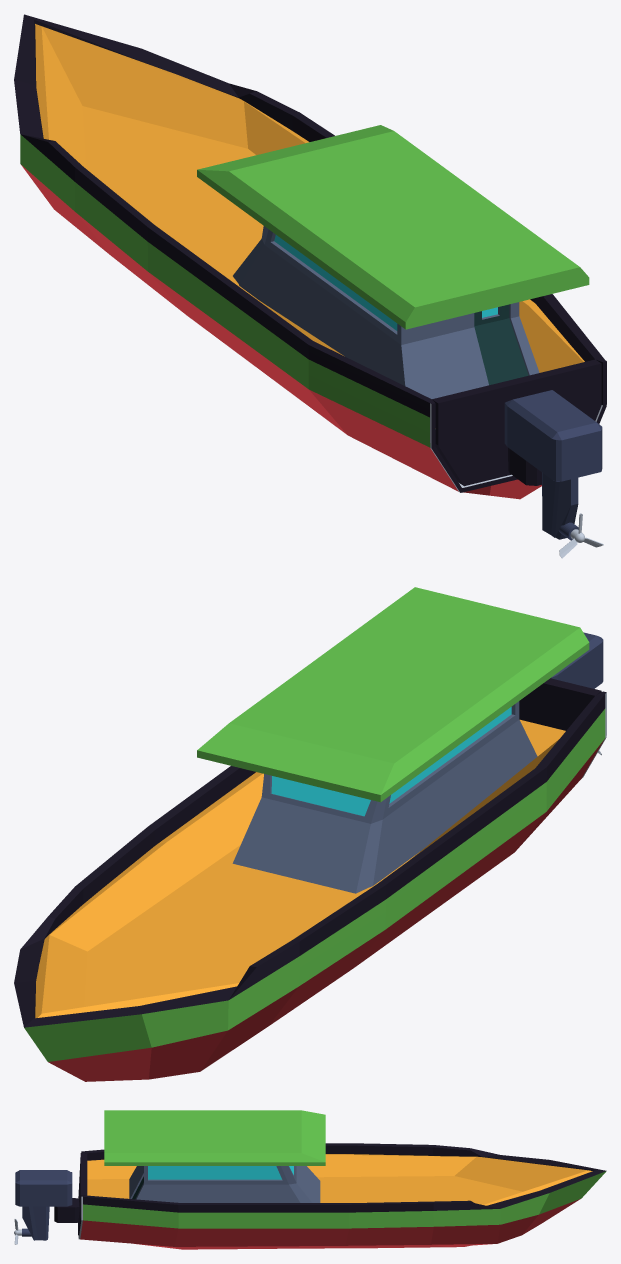
File: AI_Perahu.fbx
3 views of the same model, one above another, from view 1: azimuth 30°, elevation 25°; view 2: azimuth 150°, elevation 25°; view 3: azimuth 270°, elevation 25° (orthographic). The views are drawn at different scales.
Parts seen in each view (by area): view 1: Plane.003; view 2: Plane.003; view 3: Plane.003.
Part boxes in pixels (x1,y1,x2,y2): Plane.003: [14, 14, 606, 540]; Plane.003: [14, 587, 606, 1081]; Plane.003: [15, 1110, 606, 1249].
Bounding box in the file's own units: 277 × 246 × 1125.
